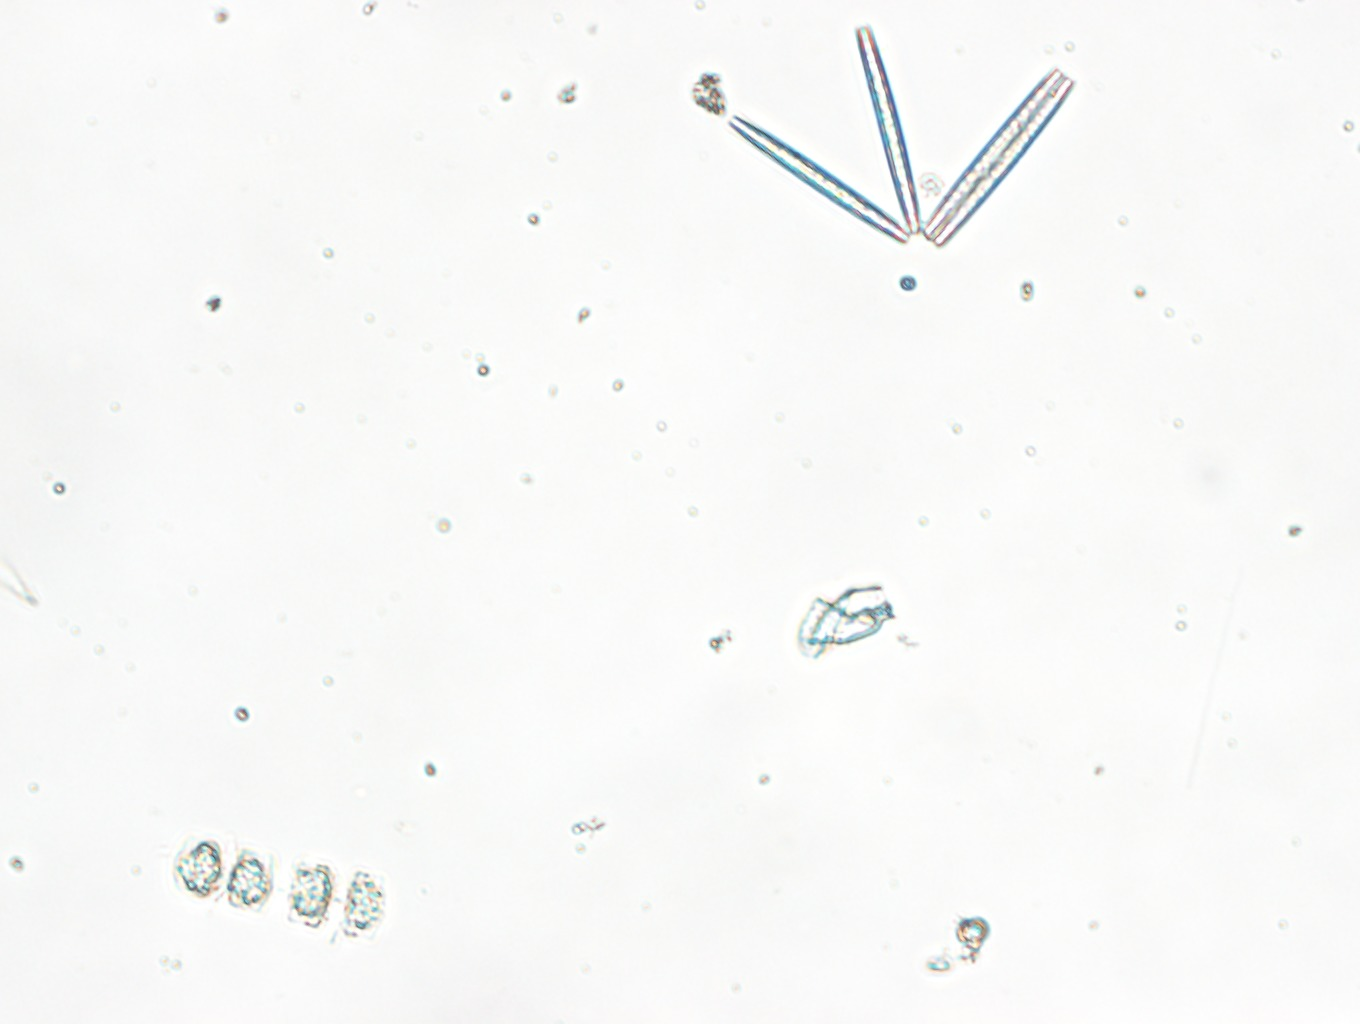chaetoceros: (172, 833, 385, 943)
thalassionema nitzschioides: (725, 23, 1076, 248)
